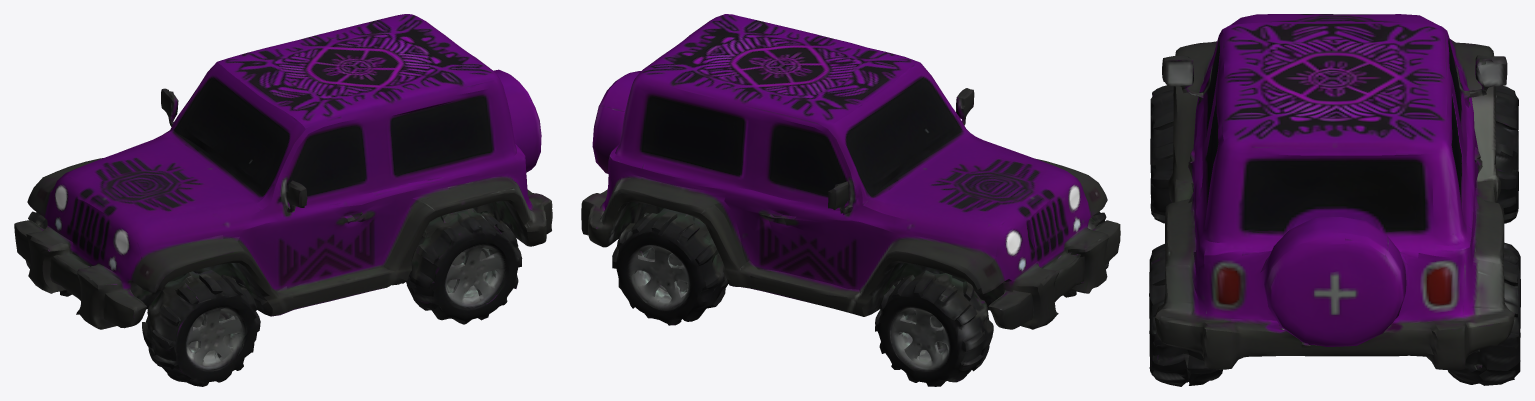
Rendered from car_jeep_fixed.glb.
3 renders of one model, left to right at view 1: azimuth 30°, elevation 25°; view 2: azimuth 150°, elevation 25°; view 3: azimuth 270°, elevation 25°, orthographic. The views are drawn at different scales.
Parts seen in each view (by area): view 1: Mesh0; view 2: Mesh0; view 3: Mesh0.
Boxes of the visible parts, box(x1,y1,x2,y2) form: Mesh0: box(14, 14, 552, 386); Mesh0: box(581, 14, 1120, 386); Mesh0: box(1149, 14, 1520, 386).
Size of the model in its own units: 1.91 by 0.8763 by 1.08.
1 material, 1 textured.
